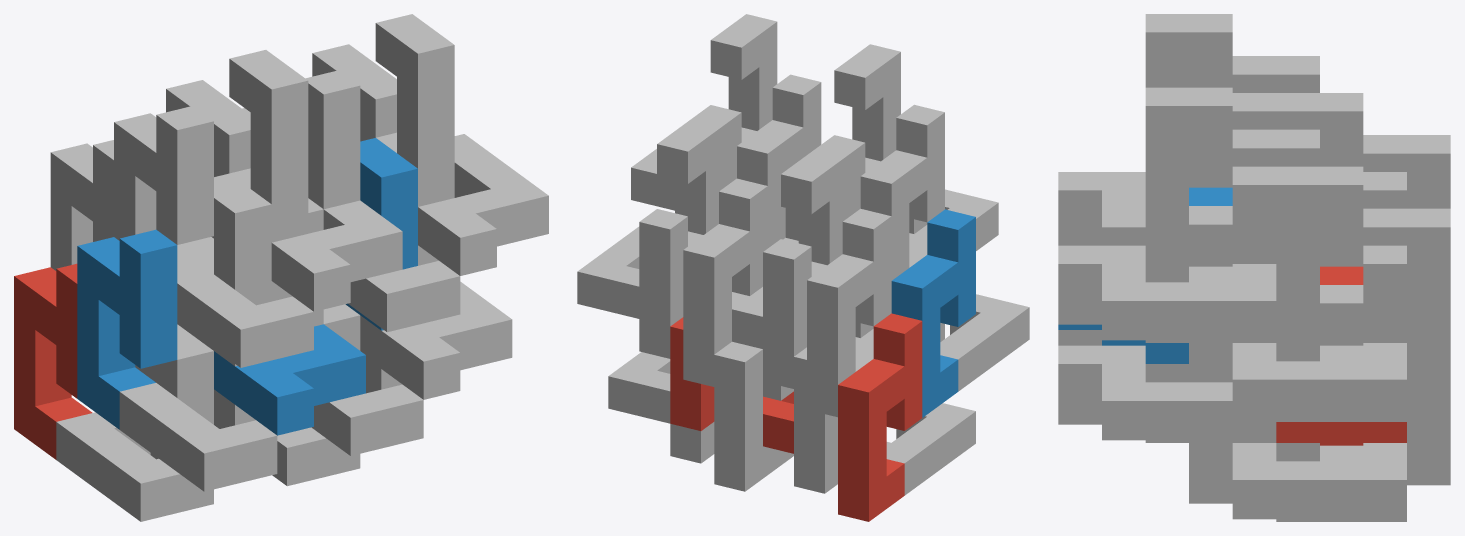
File: tiling.obj
The picture shows the model from 3 angles, left to right: view 1: azimuth 30°, elevation 25°; view 2: azimuth 150°, elevation 25°; view 3: azimuth 270°, elevation 25°; orthographic projection. The views are drawn at different scales.
Parts seen in each view (by area): view 1: copy_1_domain_2, copy_2_domain_4, copy_2_domain_8, copy_1_domain_4, copy_3_domain_2, copy_4_domain_8, copy_1_domain_1, copy_4_domain_6, copy_4_domain_4, copy_4_domain_2, copy_3_domain_4, copy_3_domain_1 (+12 smaller); view 2: copy_1_domain_1, copy_1_domain_3, copy_1_domain_7, copy_2_domain_7, copy_2_domain_3, copy_1_domain_2, copy_1_domain_4, copy_1_domain_5, copy_2_domain_8, copy_2_domain_4, copy_1_domain_8, copy_3_domain_1 (+12 smaller); view 3: copy_2_domain_8, copy_2_domain_7, copy_4_domain_8, copy_4_domain_5, copy_4_domain_7, copy_4_domain_6, copy_1_domain_7, copy_2_domain_4, copy_4_domain_4, copy_2_domain_3, copy_1_domain_3, copy_1_domain_8 (+11 smaller).
Part boxes in pixels (x1,y1,x2,y2): copy_1_domain_2: [77, 229, 177, 429]; copy_2_domain_4: [211, 50, 308, 242]; copy_2_domain_8: [357, 14, 454, 206]; copy_1_domain_4: [114, 106, 213, 262]; copy_3_domain_2: [119, 383, 277, 491]; copy_4_domain_8: [418, 134, 548, 275]; copy_1_domain_1: [14, 263, 92, 459]; copy_4_domain_6: [360, 281, 512, 399]; copy_4_domain_4: [271, 200, 402, 311]; copy_4_domain_2: [214, 324, 365, 435]; copy_3_domain_4: [177, 254, 313, 367]; copy_3_domain_1: [56, 412, 213, 521]; copy_1_domain_1: [838, 313, 922, 521]; copy_1_domain_3: [807, 208, 891, 417]; copy_1_domain_7: [683, 178, 767, 386]; copy_2_domain_7: [639, 118, 723, 326]; copy_2_domain_3: [763, 148, 847, 356]; copy_1_domain_2: [891, 209, 975, 417]; copy_1_domain_4: [860, 104, 944, 280]; copy_1_domain_5: [714, 287, 793, 491]; copy_2_domain_8: [693, 14, 777, 187]; copy_2_domain_4: [817, 44, 900, 217]; copy_1_domain_8: [737, 74, 821, 248]; copy_3_domain_1: [794, 403, 975, 495]; copy_2_domain_8: [1145, 87, 1276, 263]; copy_2_domain_7: [1276, 166, 1406, 342]; copy_4_domain_8: [1058, 245, 1276, 340]; copy_4_domain_5: [1189, 443, 1406, 519]; copy_4_domain_7: [1189, 343, 1406, 419]; copy_4_domain_6: [1058, 345, 1276, 440]; copy_1_domain_7: [1320, 208, 1450, 384]; copy_2_domain_4: [1145, 14, 1276, 129]; copy_4_domain_4: [1058, 172, 1232, 266]; copy_2_domain_3: [1276, 93, 1406, 208]; copy_1_domain_3: [1320, 135, 1450, 208]; copy_1_domain_8: [1189, 129, 1319, 187].
Size of the model in its own units: 10 by 11 by 9.
